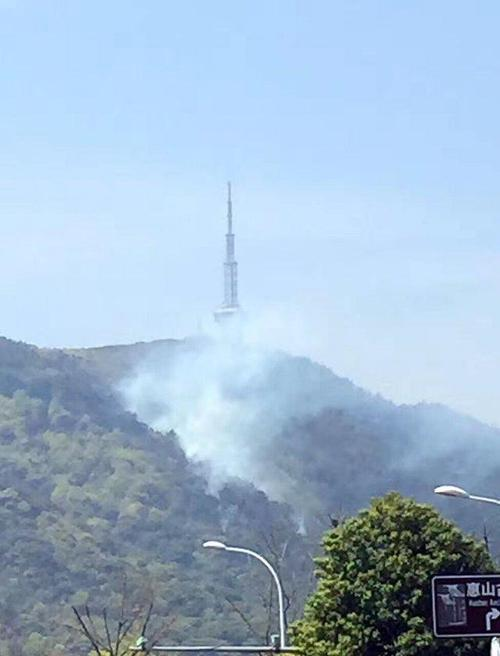smoke: (139, 322, 312, 483)
